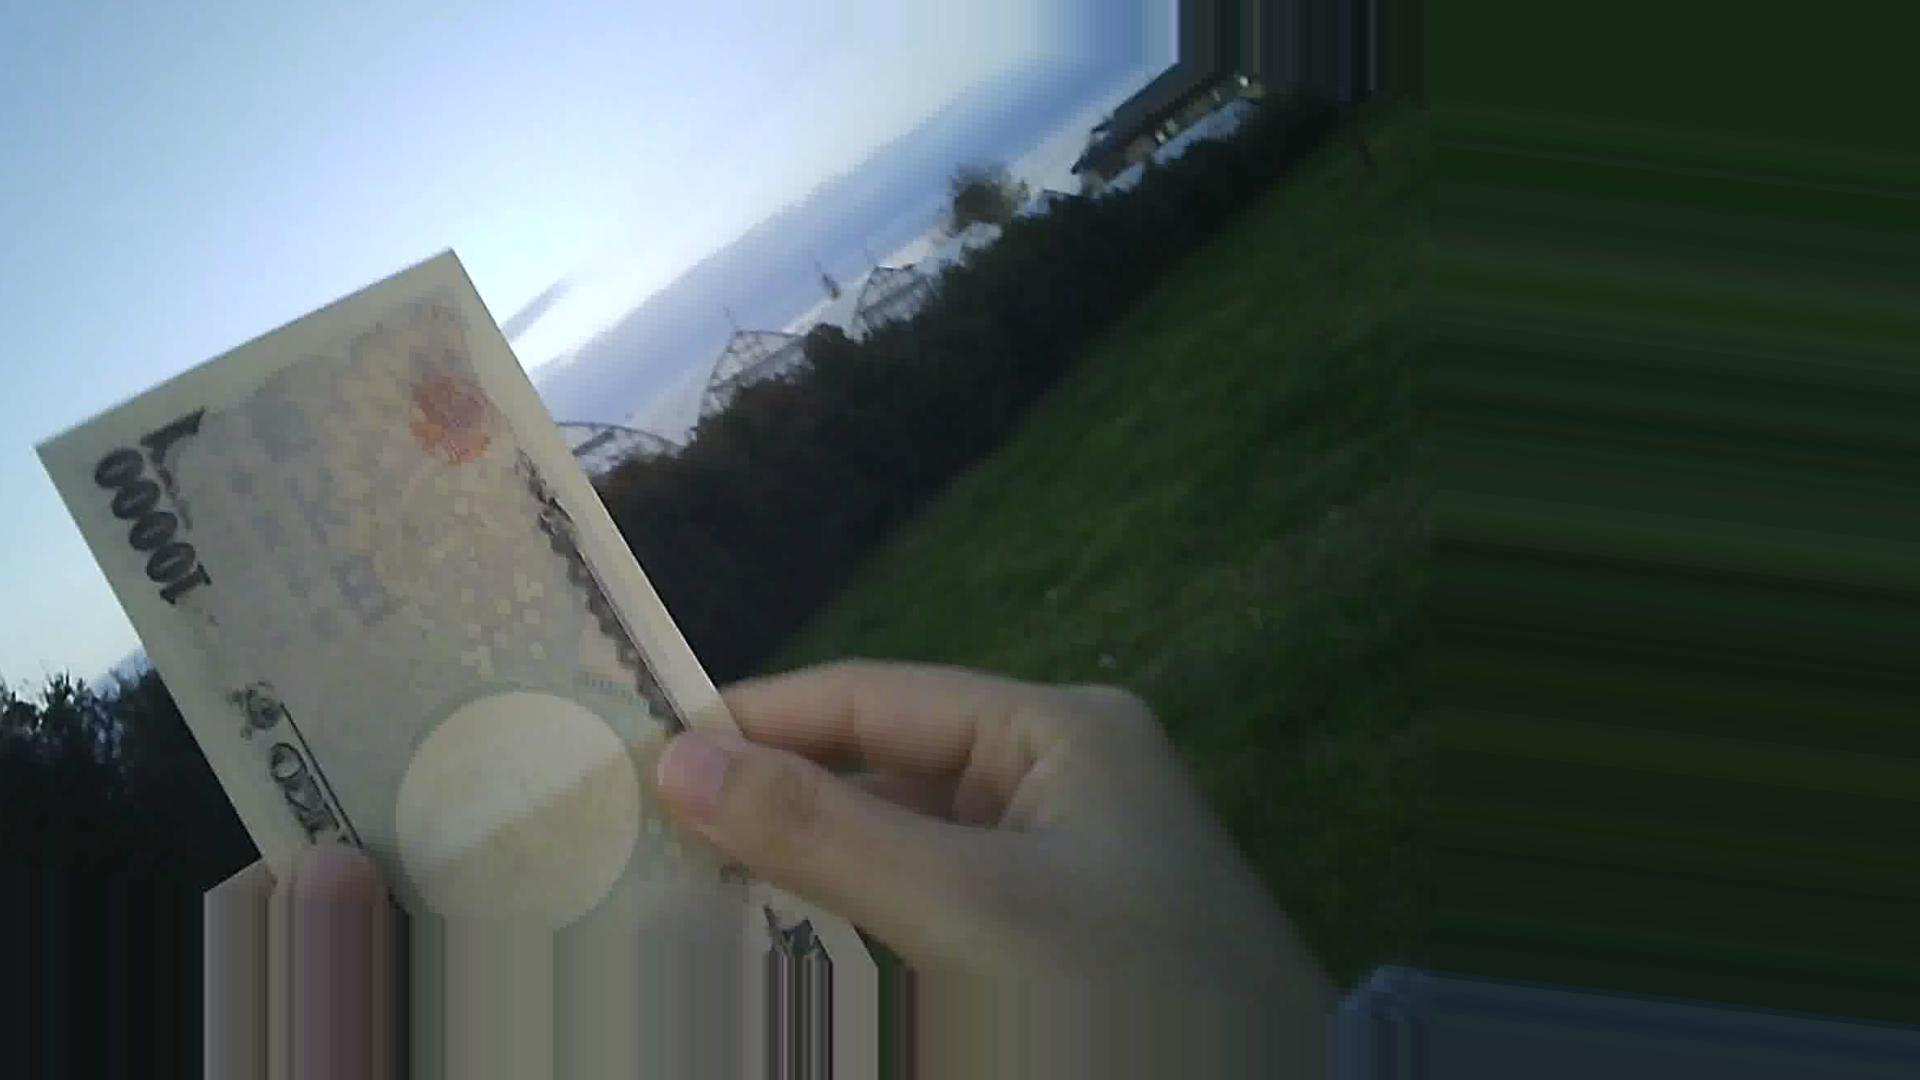10,000 Yen: (44, 248, 873, 976)
